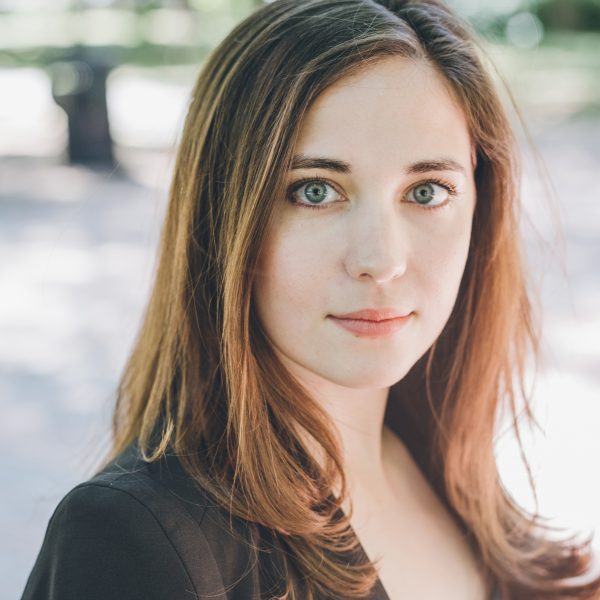bare: (244, 219, 478, 388)
